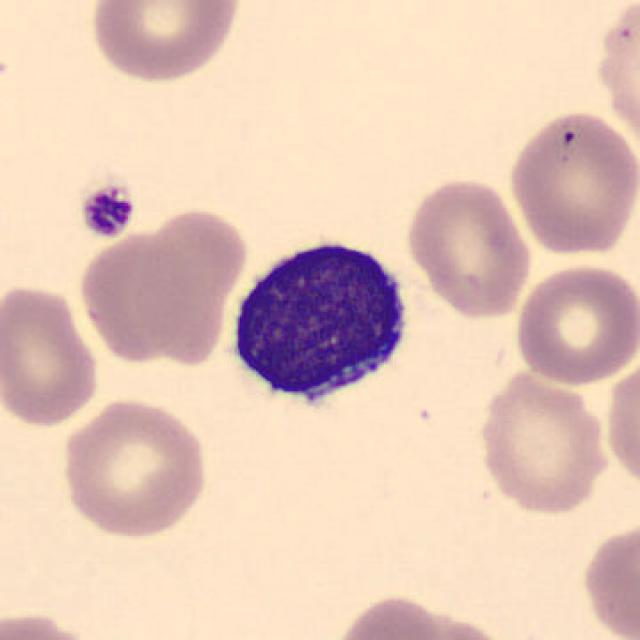Lymphocyte: (215, 224, 421, 427)
Platelets: (74, 180, 138, 241)
RBC: (57, 393, 211, 541), (471, 365, 613, 517), (505, 106, 638, 259), (402, 172, 535, 322), (130, 201, 250, 361), (74, 229, 196, 365), (510, 261, 638, 388), (0, 280, 103, 430), (85, 0, 244, 85), (326, 590, 497, 640), (592, 2, 640, 160), (577, 516, 638, 640), (601, 353, 640, 497), (0, 606, 108, 640)
